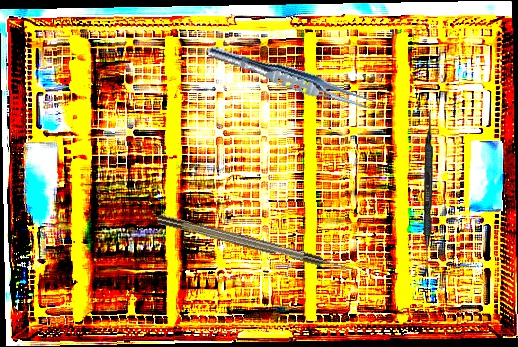Hook Surgical: (156, 212, 355, 276)
Spatula Surgical: (423, 110, 433, 277)
Tissue Forceps: (203, 41, 381, 116)
